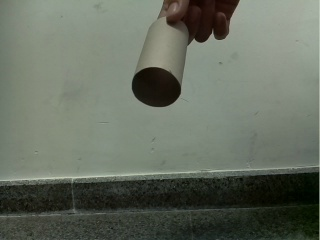rollo papel: (132, 16, 190, 108)
